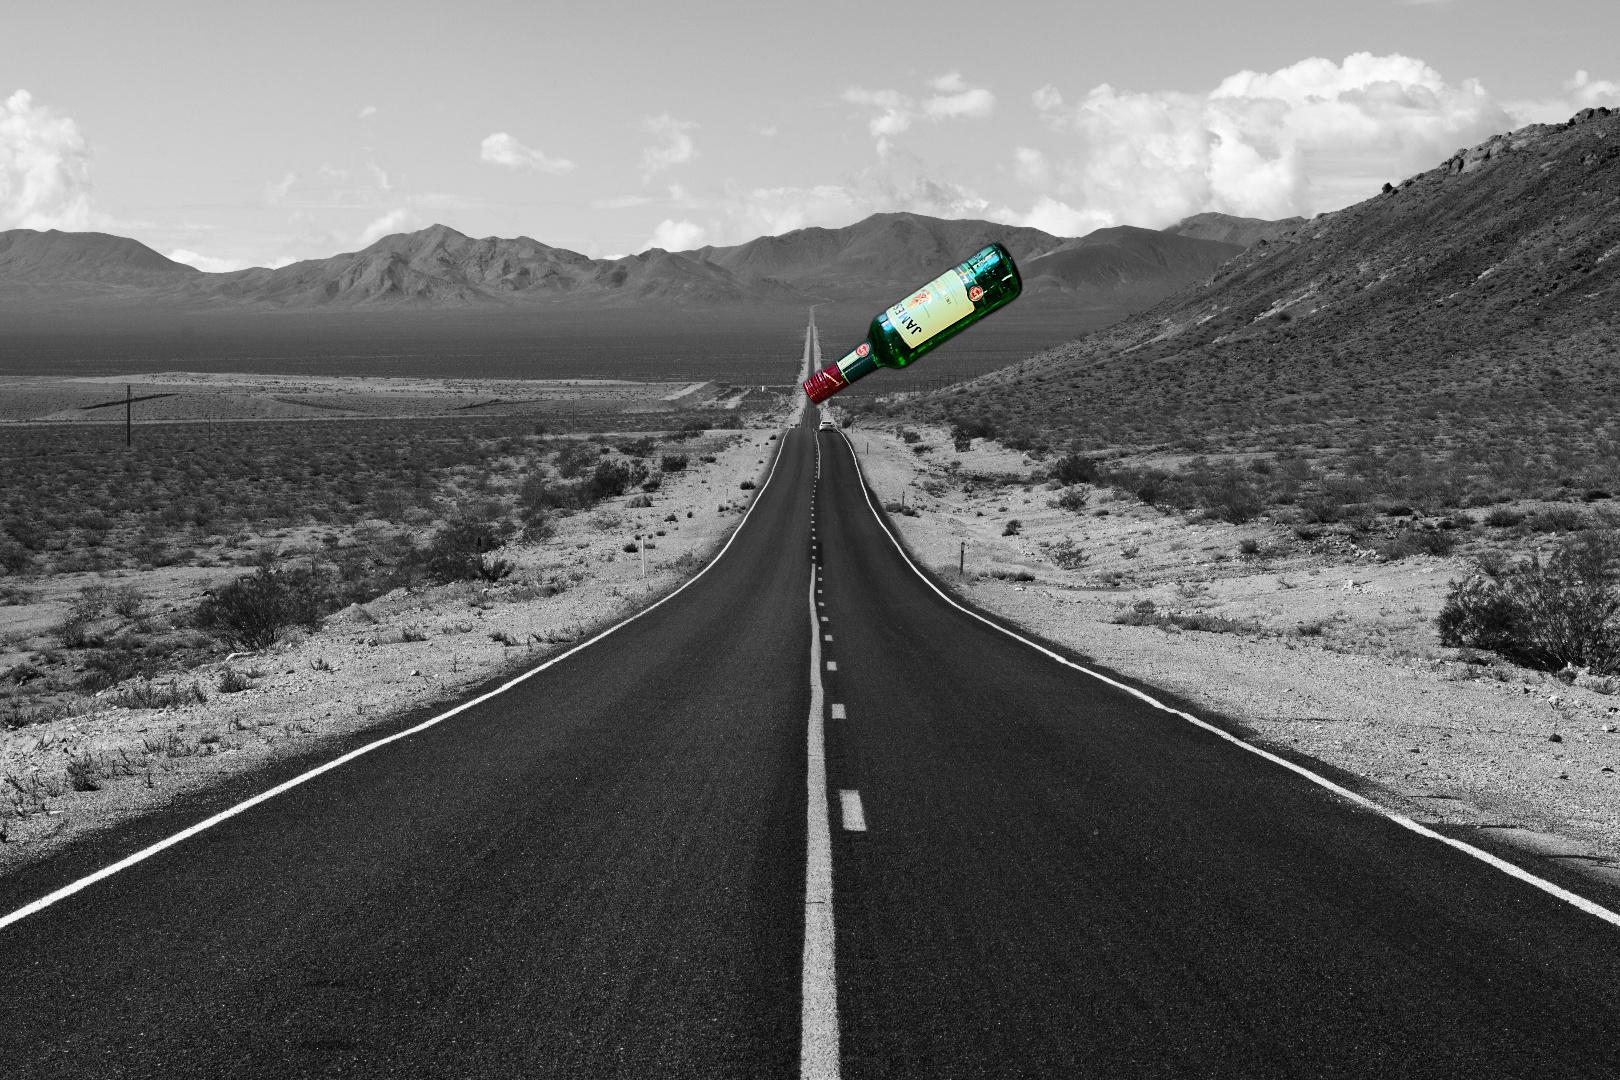glass: (798, 237, 1027, 411)
